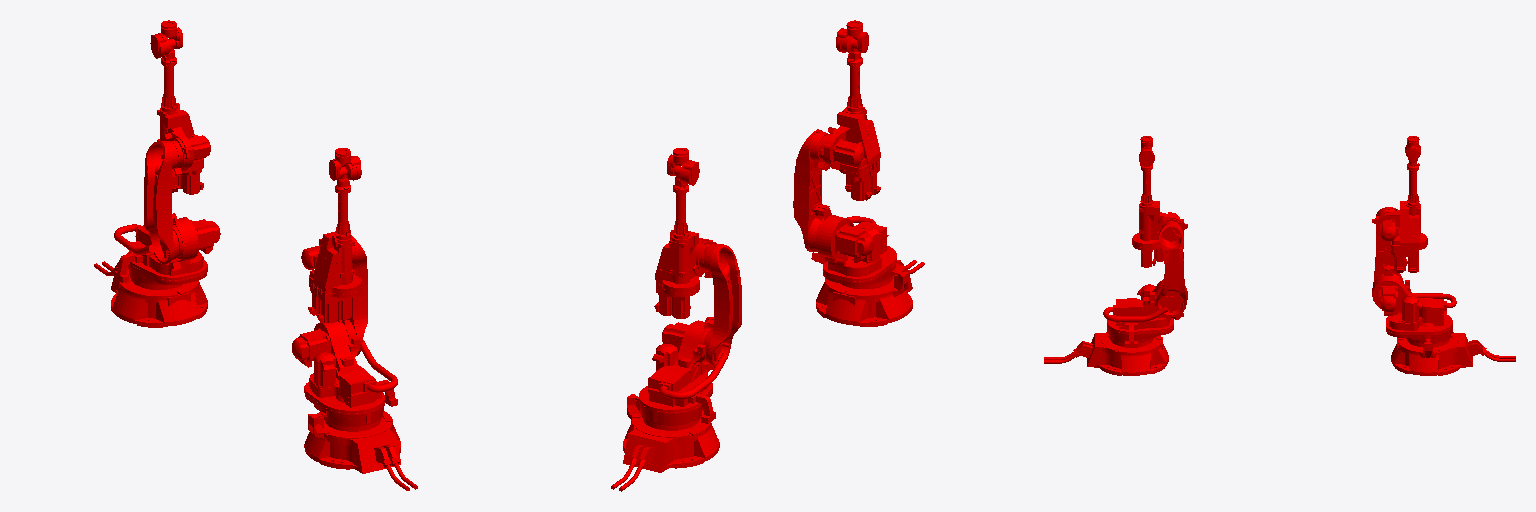
The robot description file, URDF, robot "Smart_NM45_Dual":
<?xml version="1.0" ?>
<!-- =================================================================================== -->
<!-- |    This document was autogenerated by xacro from NM45_teleop_dual.xacro         | -->
<!-- |    EDITING THIS FILE BY HAND IS NOT RECOMMENDED                                 | -->
<!-- =================================================================================== -->
<robot name="Smart_NM45_Dual" xmlns:xacro="http://ros.org/wiki/xacro">
  <!--include filename="$(find robotiq_s_model_visualization)/cfg/s-model_articulated_macro.xacro" /-->
  <link name="base_link">
		</link>
  <link name="link0_1">
    <visual>
      <geometry>
        <mesh filename="package://comau_config/meshes/visual/NM-45_Base.STL"/>
      </geometry>
      <material name="red">
        <color rgba="1 0 0 1"/>
      </material>
    </visual>
    <collision>
      <geometry>
        <mesh filename="package://comau_config/meshes/collision/NM-45_Base_CH.STL"/>
      </geometry>
      <material name="yellow">
        <color rgba="0 1 1 1"/>
      </material>
    </collision>
  </link>
  <link name="link1_1">
    <visual>
      <origin rpy="0 0 0" xyz="0 0 0"/>
      <geometry>
        <mesh filename="package://comau_config/meshes/visual/NM-45_Link1.STL"/>
      </geometry>
      <material name="red">
        <color rgba="1 0 0 1"/>
      </material>
    </visual>
    <collision>
      <origin rpy="0 0 0" xyz="0 0 0"/>
      <geometry>
        <mesh filename="package://comau_config/meshes/collision/NM-45_Link1_CH.STL"/>
      </geometry>
      <material name="yellow"/>
    </collision>
  </link>
  <link name="link2_1">
    <visual>
      <origin rpy="0 0 0" xyz="0 0 0"/>
      <geometry>
        <mesh filename="package://comau_config/meshes/visual/NM-45_Link2.STL"/>
      </geometry>
      <material name="red"/>
    </visual>
    <collision>
      <origin rpy="0 0 0" xyz="0 0 0"/>
      <geometry>
        <mesh filename="package://comau_config/meshes/collision/NM-45_Link2_CH.STL"/>
      </geometry>
      <material name="yellow"/>
    </collision>
  </link>
  <link name="link3_1">
    <visual>
      <origin rpy="0 0 0" xyz="0 0 0"/>
      <geometry>
        <mesh filename="package://comau_config/meshes/visual/NM-45_Link3.STL"/>
      </geometry>
      <material name="red"/>
    </visual>
    <collision>
      <origin rpy="0 0 0" xyz="0 0 0"/>
      <geometry>
        <mesh filename="package://comau_config/meshes/collision/NM-45_Link3_CH.STL"/>
      </geometry>
      <material name="yellow"/>
    </collision>
  </link>
  <link name="link4_1">
    <visual>
      <origin rpy="0 0 0" xyz="0 0 0"/>
      <geometry>
        <mesh filename="package://comau_config/meshes/visual/NM-45_Link4.STL"/>
      </geometry>
      <material name="red"/>
    </visual>
    <collision>
      <origin rpy="0 0 0" xyz="0 0 0"/>
      <geometry>
        <mesh filename="package://comau_config/meshes/collision/NM-45_Link4_CH.STL"/>
      </geometry>
      <material name="yellow"/>
    </collision>
  </link>
  <link name="link5_1">
    <visual>
      <origin rpy="0 0 0" xyz="0 0 0"/>
      <geometry>
        <mesh filename="package://comau_config/meshes/visual/NM-45_Link5.STL"/>
      </geometry>
      <material name="red"/>
    </visual>
    <collision>
      <origin rpy="0 0 0" xyz="0 0 0"/>
      <geometry>
        <mesh filename="package://comau_config/meshes/collision/NM-45_Link5_CH.STL"/>
      </geometry>
      <material name="yellow"/>
    </collision>
  </link>
  <link name="link6_1">
    <visual>
      <origin rpy="0 0 0" xyz="0 0 0"/>
      <geometry>
        <mesh filename="package://comau_config/meshes/visual/NM-45_Link6.STL"/>
      </geometry>
      <material name="red"/>
    </visual>
    <collision>
      <origin rpy="0 0 0" xyz="0 0 0"/>
      <geometry>
        <mesh filename="package://comau_config/meshes/collision/NM-45_Link6_CH.STL"/>
      </geometry>
      <material name="yellow"/>
    </collision>
  </link>
  <link name="link0_2">
    <visual>
      <origin rpy="0 0 0" xyz="0 0 0"/>
      <geometry>
        <mesh filename="package://comau_config/meshes/visual/NM-45_Base.STL"/>
      </geometry>
      <material name="red">
        <color rgba="1 0 0 1"/>
      </material>
    </visual>
    <collision>
      <geometry>
        <mesh filename="package://comau_config/meshes/collision/NM-45_Base_CH.STL"/>
      </geometry>
      <material name="yellow">
        <color rgba="0 1 1 1"/>
      </material>
    </collision>
  </link>
  <link name="link1_2">
    <visual>
      <origin rpy="0 0 0" xyz="0 0 0"/>
      <geometry>
        <mesh filename="package://comau_config/meshes/visual/NM-45_Link1.STL"/>
      </geometry>
      <material name="red">
        <color rgba="1 0 0 1"/>
      </material>
    </visual>
    <collision>
      <origin rpy="0 0 0" xyz="0 0 0"/>
      <geometry>
        <mesh filename="package://comau_config/meshes/collision/NM-45_Link1_CH.STL"/>
      </geometry>
      <material name="yellow"/>
    </collision>
  </link>
  <link name="link2_2">
    <visual>
      <origin rpy="0 0 0" xyz="0 0 0"/>
      <geometry>
        <mesh filename="package://comau_config/meshes/visual/NM-45_Link2.STL"/>
      </geometry>
      <material name="red"/>
    </visual>
    <collision>
      <origin rpy="0 0 0" xyz="0 0 0"/>
      <geometry>
        <mesh filename="package://comau_config/meshes/collision/NM-45_Link2_CH.STL"/>
      </geometry>
      <material name="yellow"/>
    </collision>
  </link>
  <link name="link3_2">
    <visual>
      <origin rpy="0 0 0" xyz="0 0 0"/>
      <geometry>
        <mesh filename="package://comau_config/meshes/visual/NM-45_Link3.STL"/>
      </geometry>
      <material name="red"/>
    </visual>
    <collision>
      <origin rpy="0 0 0" xyz="0 0 0"/>
      <geometry>
        <mesh filename="package://comau_config/meshes/collision/NM-45_Link3_CH.STL"/>
      </geometry>
      <material name="yellow"/>
    </collision>
  </link>
  <link name="link4_2">
    <visual>
      <origin rpy="0 0 0" xyz="0 0 0"/>
      <geometry>
        <mesh filename="package://comau_config/meshes/visual/NM-45_Link4.STL"/>
      </geometry>
      <material name="red"/>
    </visual>
    <collision>
      <origin rpy="0 0 0" xyz="0 0 0"/>
      <geometry>
        <mesh filename="package://comau_config/meshes/collision/NM-45_Link4_CH.STL"/>
      </geometry>
      <material name="yellow"/>
    </collision>
  </link>
  <link name="link5_2">
    <visual>
      <origin rpy="0 0 0" xyz="0 0 0"/>
      <geometry>
        <mesh filename="package://comau_config/meshes/visual/NM-45_Link5.STL"/>
      </geometry>
      <material name="red"/>
    </visual>
    <collision>
      <origin rpy="0 0 0" xyz="0 0 0"/>
      <geometry>
        <mesh filename="package://comau_config/meshes/collision/NM-45_Link5_CH.STL"/>
      </geometry>
      <material name="yellow"/>
    </collision>
  </link>
  <link name="link6_2">
    <visual>
      <origin rpy="0 0 0" xyz="0 0 0"/>
      <geometry>
        <mesh filename="package://comau_config/meshes/visual/NM-45_Link6.STL"/>
      </geometry>
      <material name="red"/>
    </visual>
    <collision>
      <origin rpy="0 0 0" xyz="0 0 0"/>
      <geometry>
        <mesh filename="package://comau_config/meshes/collision/NM-45_Link6_CH.STL"/>
      </geometry>
      <material name="yellow"/>
    </collision>
  </link>
  <joint name="joint0_1" type="fixed">
    <parent link="base_link"/>
    <child link="link0_1"/>
    <origin rpy="0 0 -1.57" xyz="0 0 0"/>
  </joint>
  <joint name="joint1_1" type="revolute">
    <parent link="link0_1"/>
    <child link="link1_1"/>
    <origin rpy="0 0 0" xyz="0 0 0.305"/>
    <axis xyz="0 0 -1"/>
    <limit effort="100" lower="-3.1416" upper="3.1416" velocity="2.26"/>
  </joint>
  <joint name="joint2_1" type="revolute">
    <parent link="link1_1"/>
    <child link="link2_1"/>
    <origin rpy="0 -1.57 0" xyz="0.4 -0.130 0.445"/>
    <axis xyz="0 1 0"/>
    <limit effort="100" lower="-0.733" upper="2.269" velocity="2.26"/>
  </joint>
  <joint name="joint3_1" type="revolute">
    <parent link="link2_1"/>
    <child link="link3_1"/>
    <origin rpy="0 0 0" xyz="0.75 0.01 0"/>
    <axis xyz="0 -1 0"/>
    <limit effort="100" lower="-2.967" upper="1.92" velocity="2.96"/>
  </joint>
  <joint name="joint4_1" type="revolute">
    <parent link="link3_1"/>
    <child link="link4_1"/>
    <origin rpy="0 0 0" xyz="0.234 0.120 0.250"/>
    <axis xyz="-1 0 0"/>
    <limit effort="100" lower="-3.1416" upper="3.1416" velocity="2.96"/>
  </joint>
  <joint name="joint5_1" type="revolute">
    <parent link="link4_1"/>
    <child link="link5_1"/>
    <origin rpy="0 0 0" xyz="0.578 0 0"/>
    <axis xyz="0 1 0"/>
    <limit effort="100" lower="-2.147" upper="2.147" velocity="3.48"/>
  </joint>
  <joint name="joint6_1" type="revolute">
    <parent link="link5_1"/>
    <child link="link6_1"/>
    <origin rpy="0 0 0" xyz="0.150 0 0"/>
    <axis xyz="-1 0 0"/>
    <limit effort="100" lower="-3.1416" upper="3.1416" velocity="3.48"/>
  </joint>
  <joint name="joint0_2" type="fixed">
    <parent link="base_link"/>
    <child link="link0_2"/>
    <origin rpy="0 0 1.57" xyz="0 -3 0"/>
    <!--origin xyz="0 -2 0" rpy="0 0 1.57"/-->
  </joint>
  <joint name="joint1_2" type="revolute">
    <parent link="link0_2"/>
    <child link="link1_2"/>
    <origin rpy="0 0 0" xyz="0 0 0.305"/>
    <axis xyz="0 0 -1"/>
    <limit effort="100" lower="-3.1416" upper="3.1416" velocity="2.26"/>
  </joint>
  <joint name="joint2_2" type="revolute">
    <parent link="link1_2"/>
    <child link="link2_2"/>
    <origin rpy="0 -1.57 0" xyz="0.4 -0.130 0.445"/>
    <axis xyz="0 1 0"/>
    <limit effort="100" lower="-0.733" upper="2.269" velocity="2.26"/>
  </joint>
  <joint name="joint3_2" type="revolute">
    <parent link="link2_2"/>
    <child link="link3_2"/>
    <origin rpy="0 0 0" xyz="0.75 0.01 0"/>
    <axis xyz="0 -1 0"/>
    <limit effort="100" lower="-2.967" upper="1.92" velocity="2.96"/>
  </joint>
  <joint name="joint4_2" type="revolute">
    <parent link="link3_2"/>
    <child link="link4_2"/>
    <origin rpy="0 0 0" xyz="0.234 0.120 0.250"/>
    <axis xyz="-1 0 0"/>
    <limit effort="100" lower="-3.1416" upper="3.1416" velocity="2.96"/>
  </joint>
  <joint name="joint5_2" type="revolute">
    <parent link="link4_2"/>
    <child link="link5_2"/>
    <origin rpy="0 0 0" xyz="0.578 0 0"/>
    <axis xyz="0 1 0"/>
    <limit effort="100" lower="-2.147" upper="2.147" velocity="3.48"/>
  </joint>
  <joint name="joint6_2" type="revolute">
    <parent link="link5_2"/>
    <child link="link6_2"/>
    <origin rpy="0 0 0" xyz="0.150 0 0"/>
    <axis xyz="-1 0 0"/>
    <limit effort="100" lower="-3.1416" upper="3.1416" velocity="3.48"/>
  </joint>
  <!--xacro:s-model_articulated prefix=""/-->
  <!-- link list -->
  <link name="eff_stack_1">
    <visual>
      <geometry>
        <mesh filename="package://comau_config/meshes/visual/Effector_stack.STL"/>
      </geometry>
      <material name="orange">
        <color rgba="1 0.5 0 1"/>
      </material>
    </visual>
    <collision>
      <geometry>
        <mesh filename="package://comau_config/meshes/collision/Effector_stack_CH.STL"/>
      </geometry>
      <material name="yellow">
        <color rgba="0 1 1 1"/>
      </material>
    </collision>
  </link>
  <link name="eff_stack_2">
    <visual>
      <geometry>
        <mesh filename="package://comau_config/meshes/visual/Effector_stack.STL"/>
      </geometry>
      <material name="orange">
        <color rgba="1 0.5 0 1"/>
      </material>
    </visual>
    <collision>
      <geometry>
        <mesh filename="package://comau_config/meshes/collision/Effector_stack_CH.STL"/>
      </geometry>
      <material name="yellow">
        <color rgba="0 1 1 1"/>
      </material>
    </collision>
  </link>
  <!-- end link list -->
  <!-- joint list -->
  <joint name="flange2stack_1" type="fixed">
    <parent link="link6_1"/>
    <child link="eff_stack_1"/>
    <origin rpy="0 1.57 0" xyz="0.025 0 0"/>
  </joint>
  <!--joint name="stack2hand_1" type="fixed">
			<parent link="eff_stack_1"/>
			<child link="palm"/>
			<origin xyz="0 0 0.2123" rpy="1.57 0 0"/>
		</joint-->
  <joint name="flange2stack_2" type="fixed">
    <parent link="link6_2"/>
    <child link="eff_stack_2"/>
    <origin rpy="0 1.57 0" xyz="0.025 0 0"/>
  </joint>
  <!-- end of joint list -->
</robot>

--- Facts derived from the render (not from the file) ---
The picture shows the robot from 3 angles, left to right: view 1: azimuth 30°, elevation 25°; view 2: azimuth 150°, elevation 25°; view 3: azimuth 270°, elevation 25°; orthographic projection.
Model Smart_NM45_Dual with 17 links and 16 joints (12 revolute, 4 fixed), rooted at base_link, posed every joint at zero.
Links seen in each view (by area): view 1: link1_2, link1_1, link0_2, link0_1, link3_2, link2_1, link3_1, link2_2, link4_2, link4_1, link5_1; view 2: link1_1, link1_2, link0_1, link0_2, link3_2, link3_1, link2_1, link2_2, link4_2, link4_1, link5_1; view 3: link1_1, link0_1, link0_2, link1_2, link3_1, link2_2, link3_2, link2_1.
Link boxes in pixels (x1,y1,x2,y2): link1_2: (292, 319, 397, 428); link1_1: (114, 213, 220, 286); link0_2: (304, 411, 417, 490); link0_1: (94, 257, 207, 327); link3_2: (301, 231, 361, 322); link2_1: (144, 141, 181, 263); link3_1: (157, 103, 210, 194); link2_2: (342, 236, 367, 355); link4_2: (335, 164, 356, 239); link4_1: (161, 38, 176, 112); link5_1: (150, 27, 182, 58); link1_1: (635, 317, 727, 427); link1_2: (811, 207, 899, 285); link0_1: (611, 394, 719, 491); link0_2: (816, 260, 924, 326); link3_2: (819, 107, 880, 200); link3_1: (654, 230, 716, 318); link2_1: (704, 244, 741, 366); link2_2: (793, 129, 829, 252); link4_2: (841, 36, 862, 112); link4_1: (673, 165, 688, 239); link5_1: (667, 154, 699, 185); link1_1: (1372, 268, 1456, 344); link0_1: (1391, 332, 1515, 375); link0_2: (1044, 332, 1168, 375); link1_2: (1103, 279, 1187, 347); link3_1: (1372, 201, 1427, 272); link2_2: (1156, 222, 1186, 316); link3_2: (1132, 201, 1187, 267); link2_1: (1373, 207, 1403, 283).
Size in the robot's own frame: 0.75 by 4.77 by 2.49 metres.
14 mesh visuals loaded from 8 distinct referenced files (7 binary STL); not drawn: 2 (reference not matched to a file when rendering).